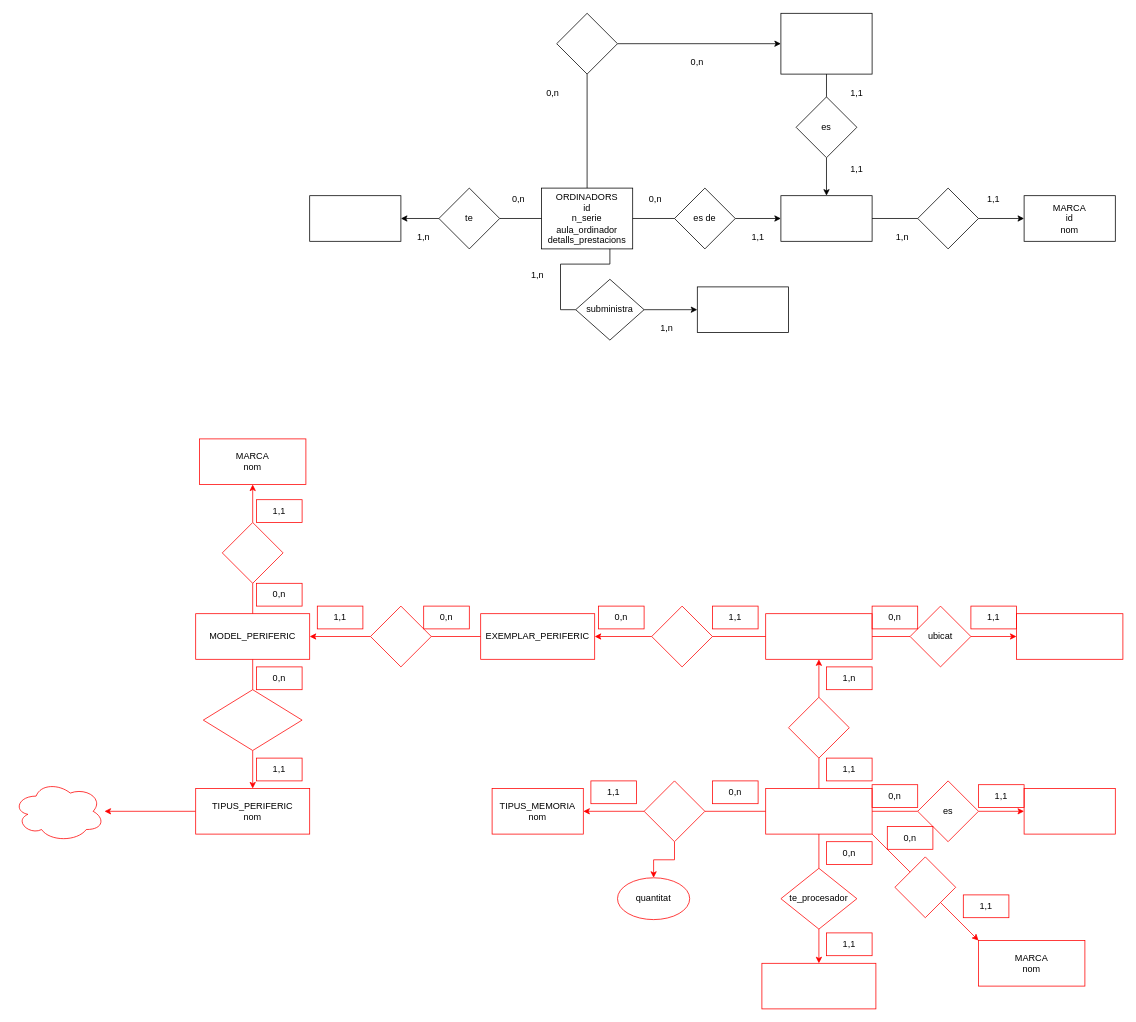
Some shapes in this 1136 by 1022 pixel diagram are drawn without their labels. Here are the shapes that lost their labels. From the top down, the box of each, then its label:
(556, 13, 618, 74): conte
(780, 13, 872, 74): COMPONENTS id nom garantia
(309, 195, 401, 241): PERIFERICS id n_serie nom
(780, 195, 872, 241): MODEL id nom
(917, 187, 978, 249): pertany
(697, 286, 788, 332): PROVEIDORS id nom
(651, 605, 712, 667): connectat
(765, 613, 872, 659): EXEMPLAR n_serie data_fi_garantia
(1016, 613, 1123, 659): AULA nom
(203, 689, 302, 750): te_tipus_periferic
(13, 780, 104, 842): router, ratoli, impresora
(643, 780, 705, 842): tenen
(765, 788, 872, 834): MODEL_ORDINADOR
(1023, 788, 1115, 834): TIPUS_PLACA nom
(894, 856, 956, 918): te_marca
(761, 963, 876, 1009): TIPUS_PROCESSADOR nom
